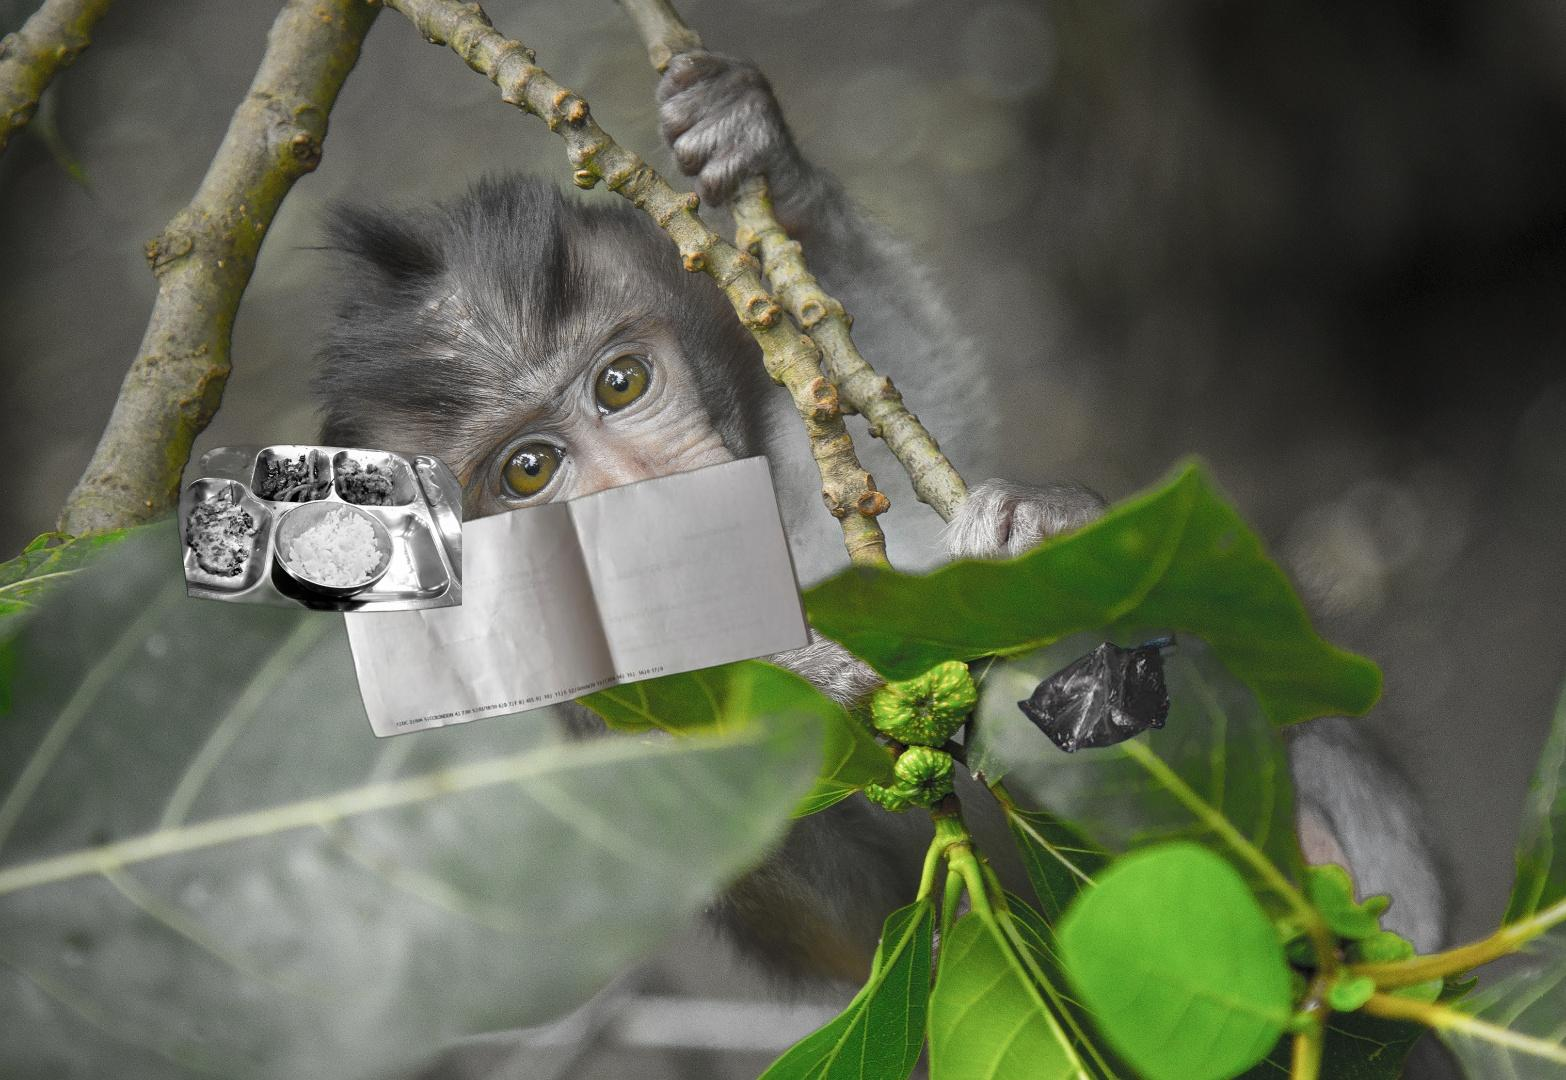biological: (173, 442, 462, 615)
paper: (339, 451, 818, 742)
plastic-bag: (1016, 627, 1182, 756)
